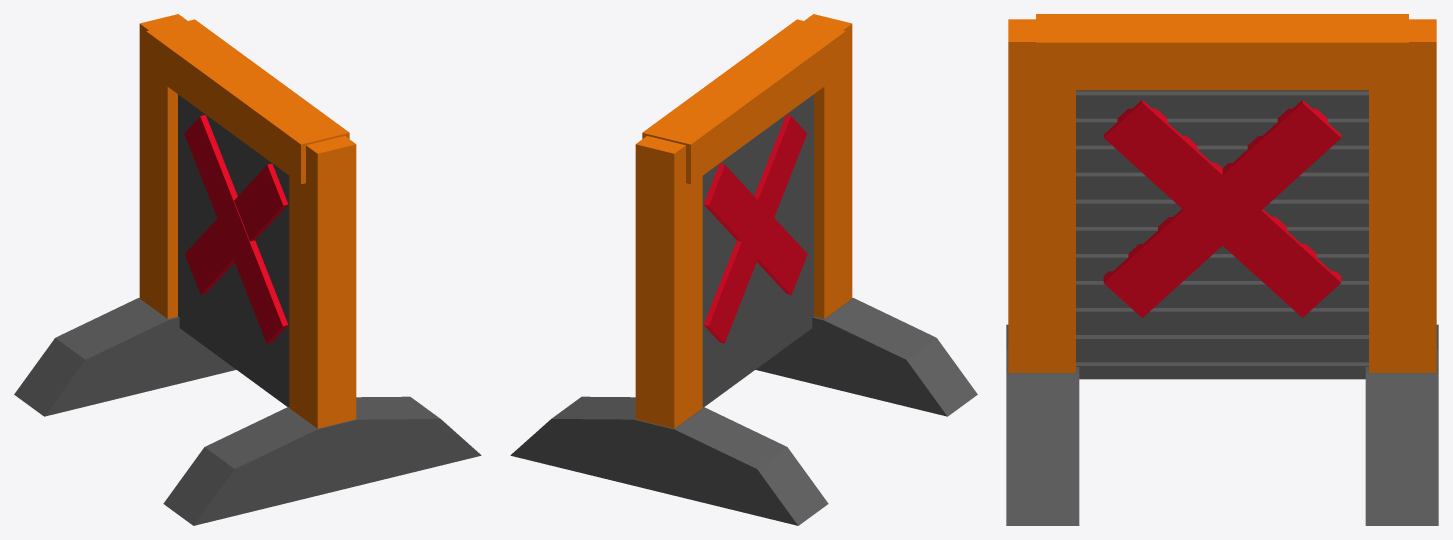
The model's file is obstacle2.fbx.
The picture shows the model from 3 angles, left to right: view 1: azimuth 30°, elevation 25°; view 2: azimuth 150°, elevation 25°; view 3: azimuth 270°, elevation 25°; orthographic projection. The views are drawn at different scales.
Visible parts, largest first — view 1: Cube.005; view 2: Cube.005; view 3: Cube.005.
Boxes of the visible parts, left/top/right/bottom form: Cube.005: left=14, top=14, right=481, bottom=525; Cube.005: left=510, top=14, right=977, bottom=525; Cube.005: left=1006, top=14, right=1438, bottom=525.
Size of the model in its own units: 402 by 457 by 433.
